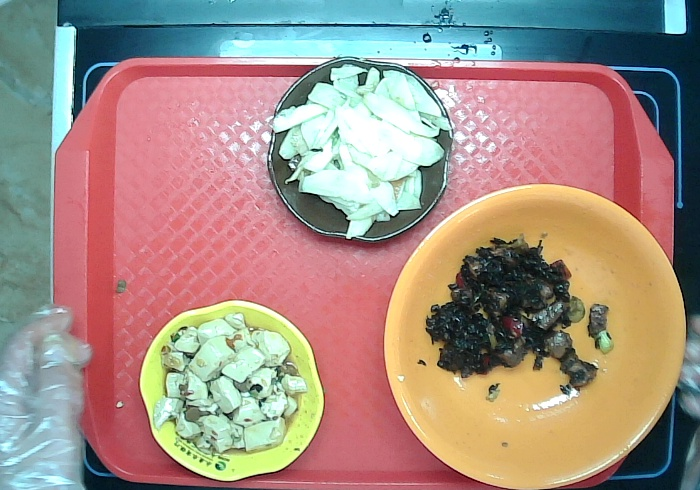YKMZ-Huang_Se_Ao_Bian_Wan: (134, 294, 330, 484)
YKMZ-Ju_Se_Tang_Wan: (371, 175, 692, 488)
YKMZ-Ka_Fei_Ao_Bian_Wan: (260, 53, 461, 244)
